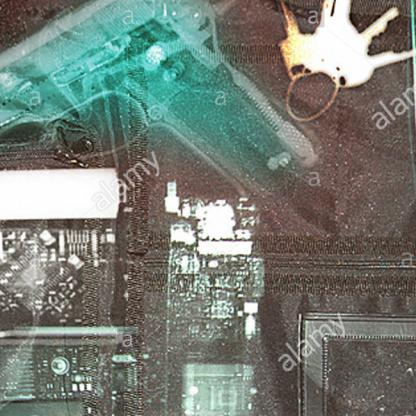gun: (0, 0, 325, 216)
